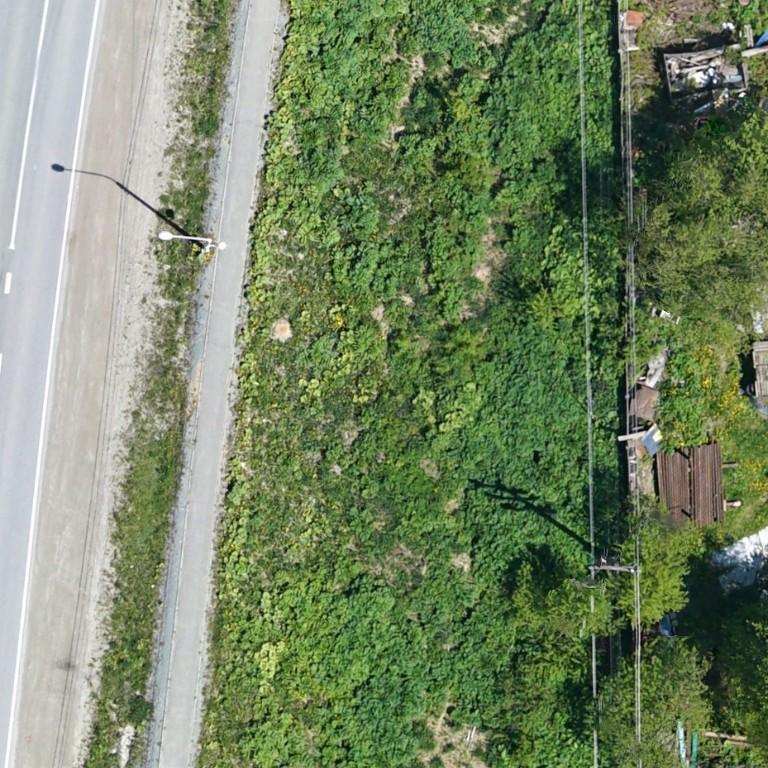hogweed: (457, 355, 590, 588), (482, 2, 581, 217), (333, 588, 449, 751), (392, 436, 475, 632), (324, 0, 407, 128), (274, 571, 345, 693), (409, 0, 478, 68), (459, 610, 502, 704), (333, 242, 381, 286), (296, 107, 341, 148), (303, 146, 341, 189), (350, 510, 373, 540)
